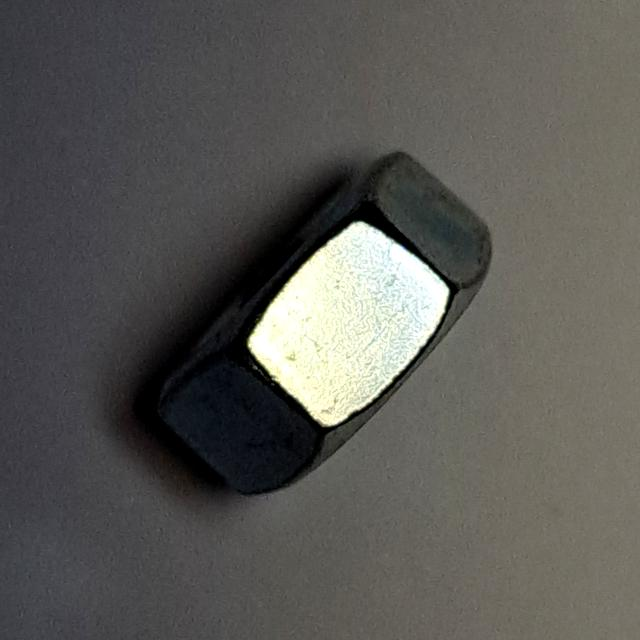Side_Excellent: (136, 139, 519, 513)
